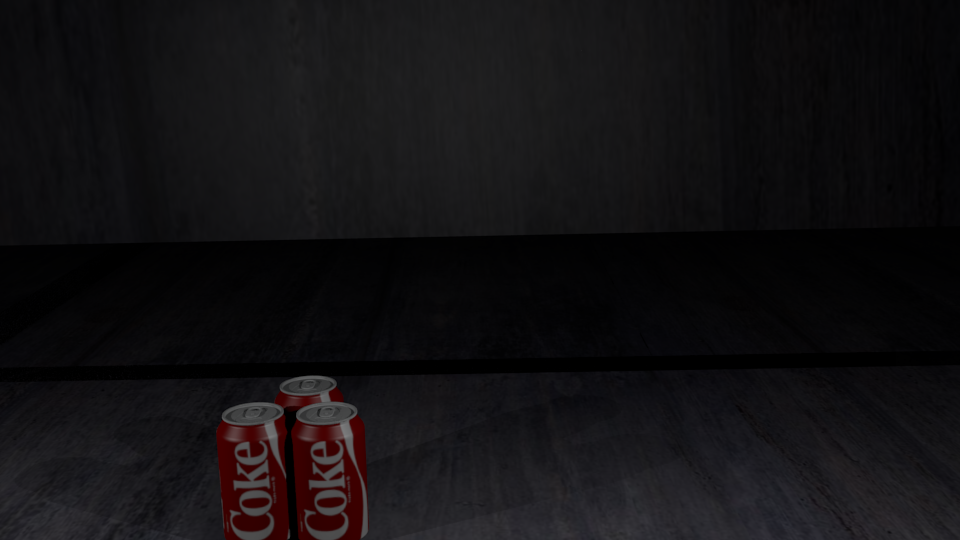cola_can: (216, 403, 293, 539), (291, 402, 366, 539), (275, 376, 342, 508)
